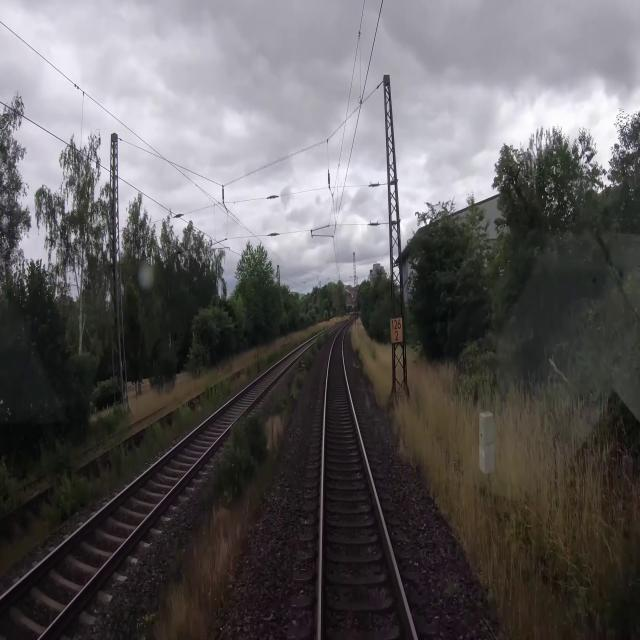Plant: (134, 330, 328, 639)
